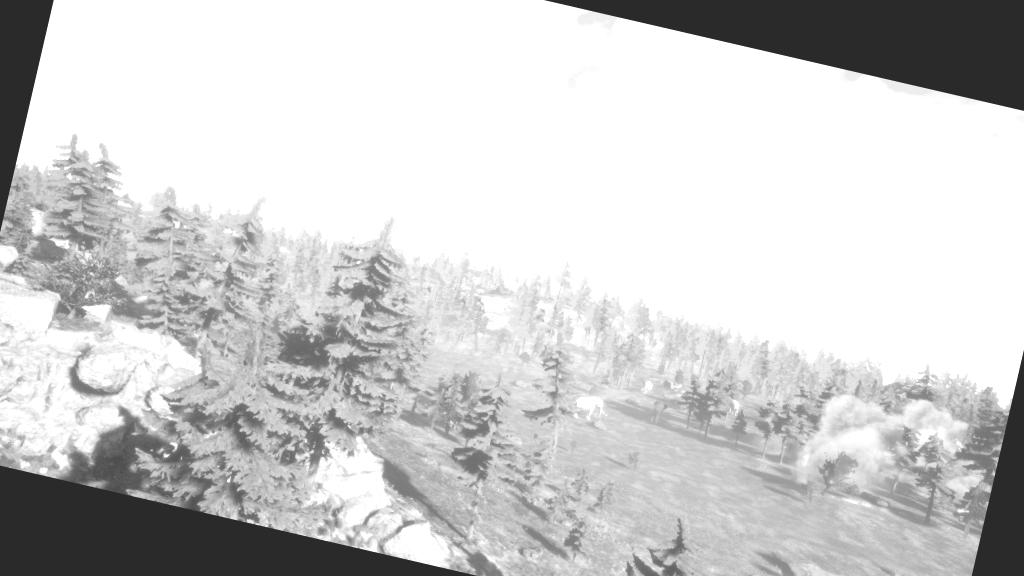Fire: (795, 436, 891, 505), (908, 444, 955, 478)
elephant: (558, 385, 614, 434), (718, 388, 752, 425), (642, 396, 674, 434), (628, 370, 661, 401)
hippopotamus: (771, 558, 834, 575), (729, 564, 794, 575)
smoke: (796, 383, 992, 506)
